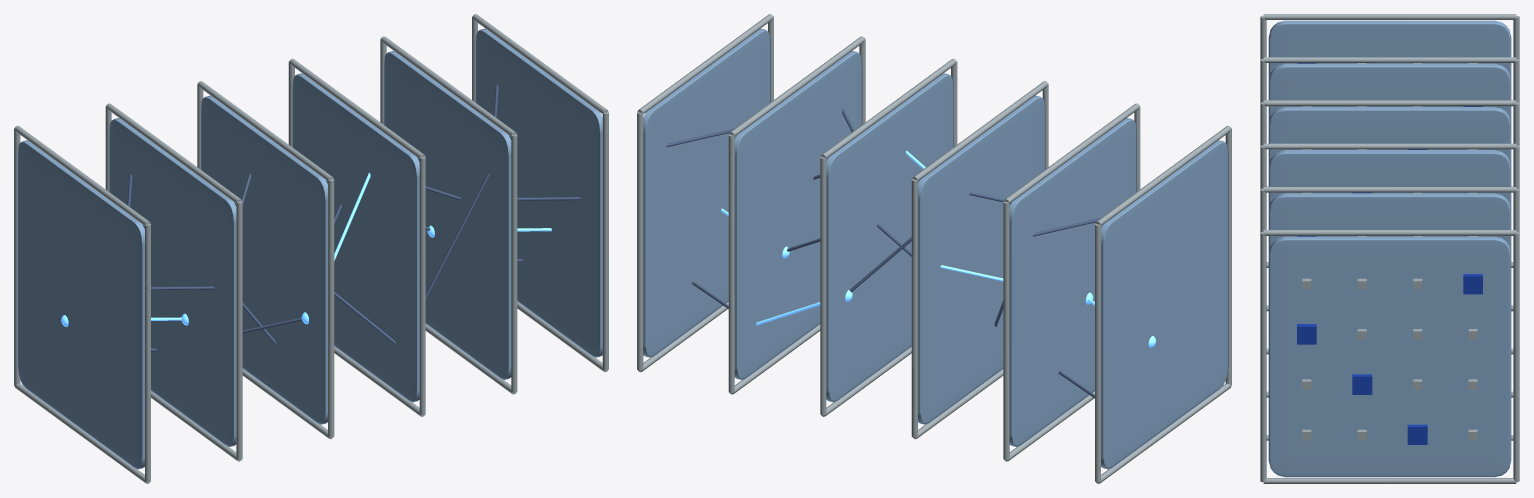
Rendered from layers.glb.
The picture shows the model from 3 angles, left to right: view 1: azimuth 30°, elevation 25°; view 2: azimuth 150°, elevation 25°; view 3: azimuth 270°, elevation 25°; orthographic projection. The views are drawn at different scales.
Visible parts, largest first — view 1: Attention study; view 2: Attention study; view 3: Attention study.
Part boxes in pixels (<box>): Attention study: <box>14,14,608,483</box>; Attention study: <box>637,14,1231,483</box>; Attention study: <box>1260,14,1519,483</box>.
Size of the model in its own units: 3.04 by 1.62 by 1.5.
